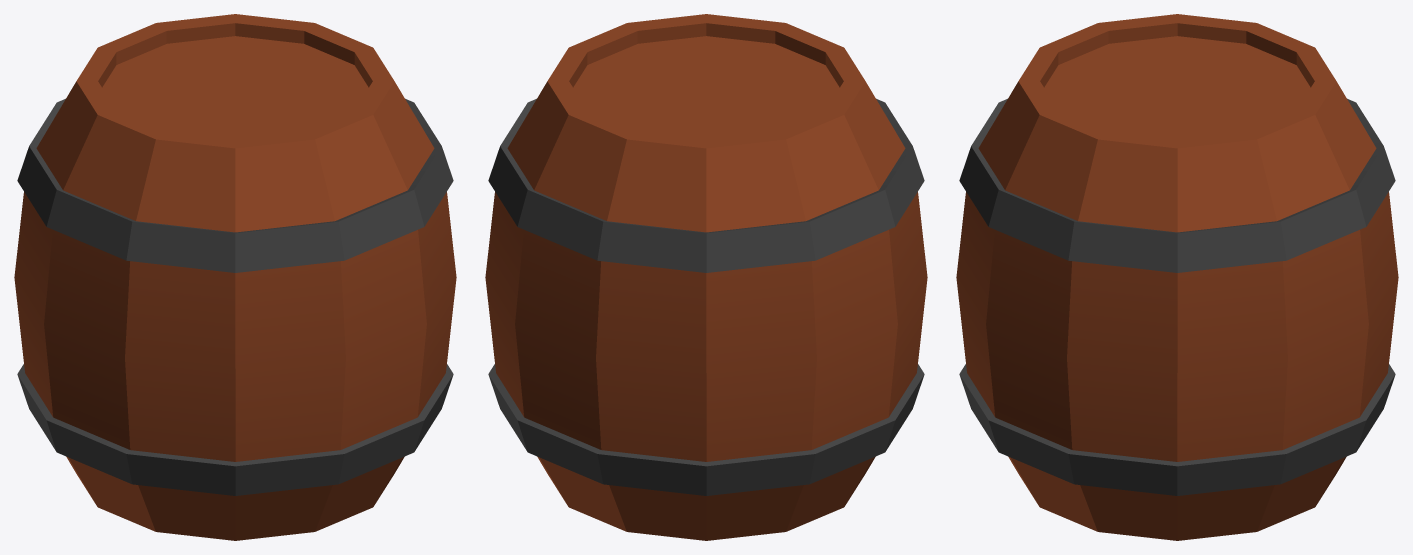
File: barrel.fbx
3 renders of one model, left to right at view 1: azimuth 30°, elevation 25°; view 2: azimuth 150°, elevation 25°; view 3: azimuth 270°, elevation 25°, orthographic.
Parts seen in each view (by area): view 1: Cylinder; view 2: Cylinder; view 3: Cylinder.
Boxes of the visible parts, bbox=[...] form: Cylinder: bbox=[14, 14, 456, 540]; Cylinder: bbox=[485, 14, 927, 540]; Cylinder: bbox=[956, 14, 1398, 540].
Size of the model in its own units: 123 by 120 by 123.
